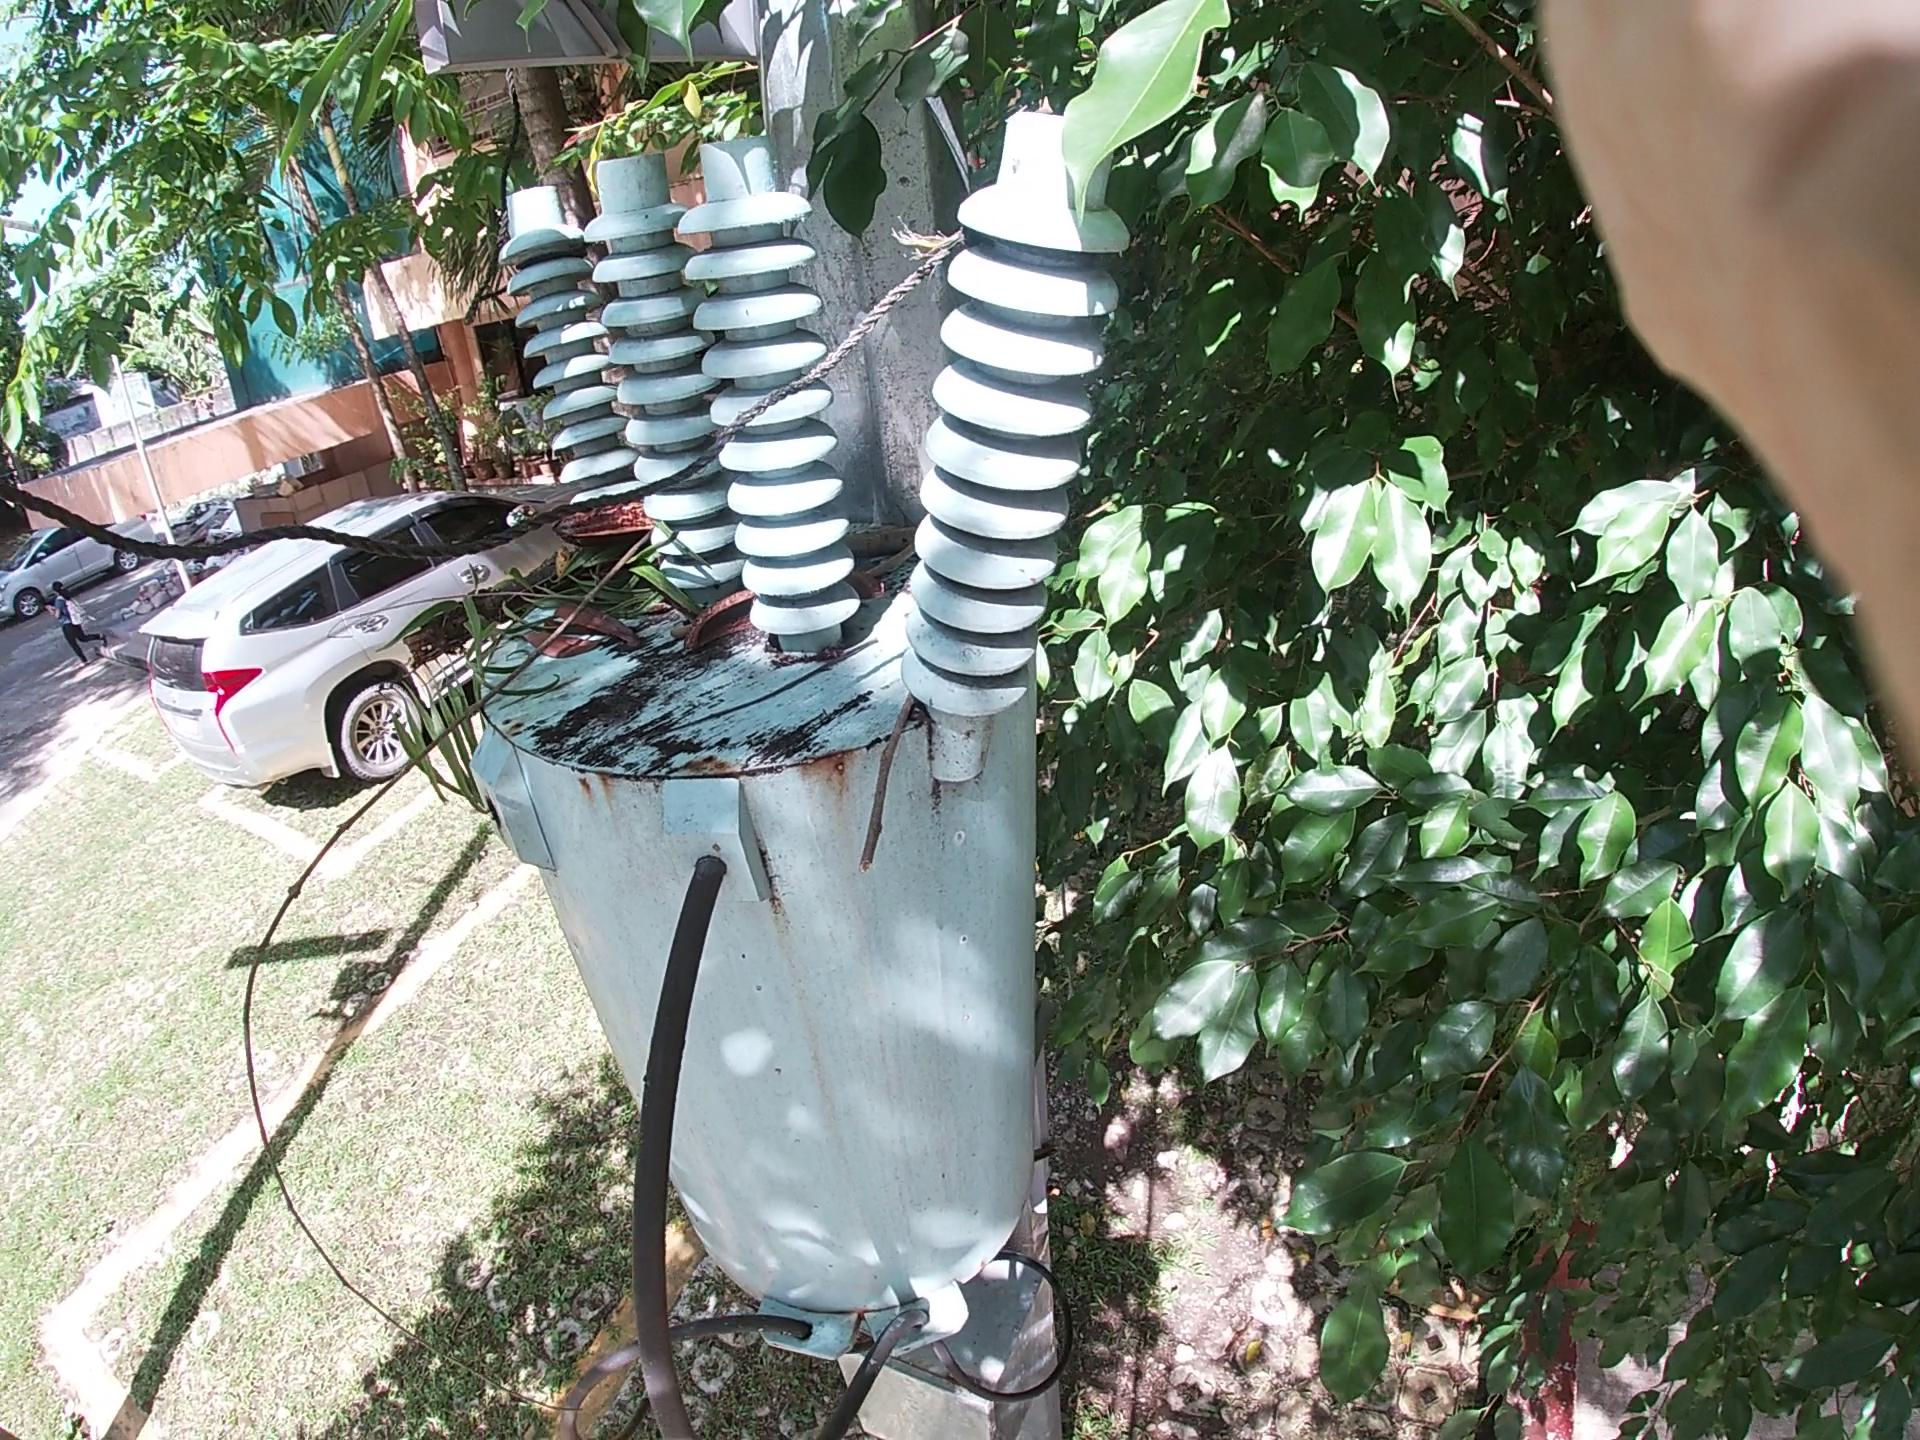branch with leaves: (345, 489, 641, 702)
leaf: (514, 529, 661, 678)
mahogany fruit: (668, 569, 794, 681), (522, 489, 636, 594)
tree branch: (209, 457, 698, 1091), (741, 446, 954, 640), (901, 613, 937, 877)
